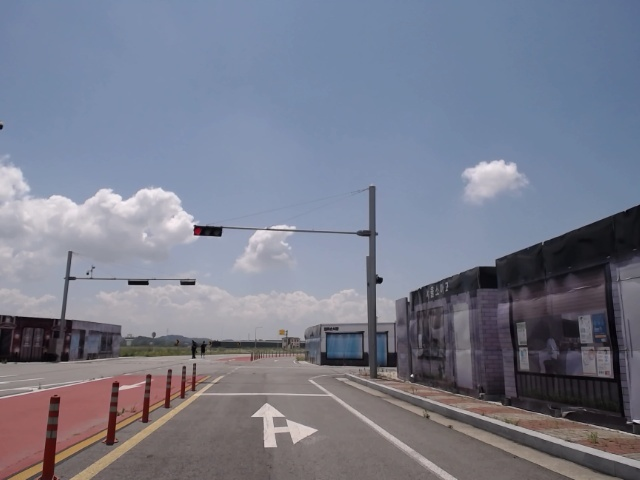red_3: (193, 226, 223, 237)
